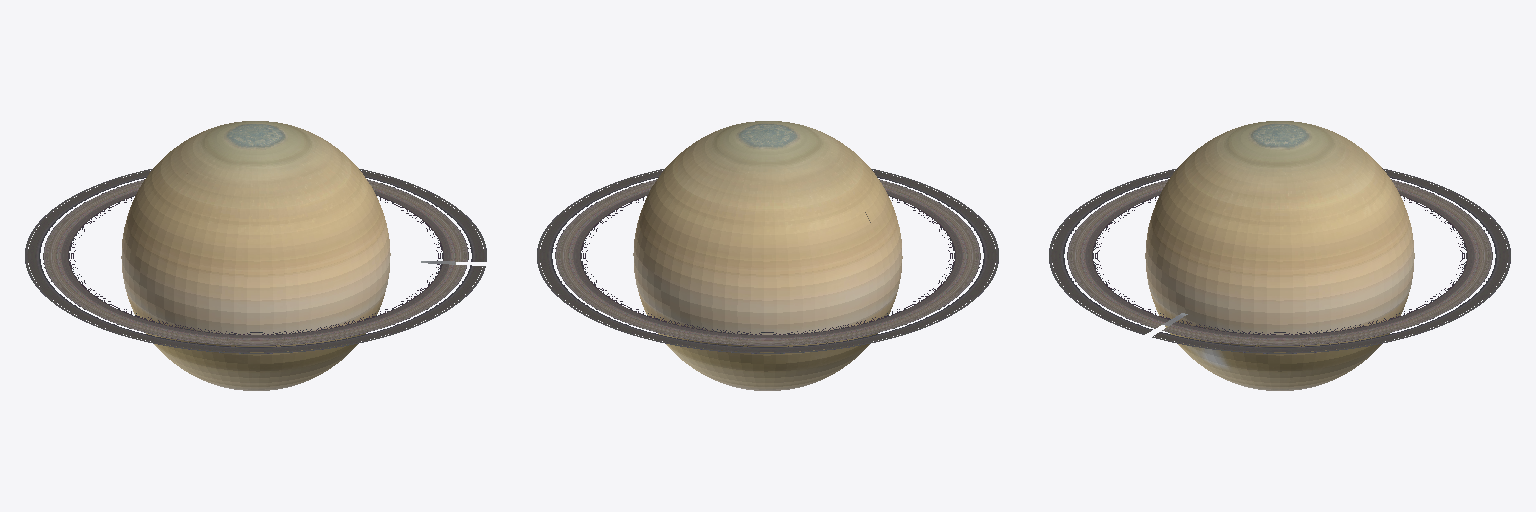
3 renders of one model, left to right at view 1: azimuth 30°, elevation 25°; view 2: azimuth 150°, elevation 25°; view 3: azimuth 270°, elevation 25°, orthographic.
Parts seen in each view (by area): view 1: Ring_Circle.001; view 2: Ring_Circle.001; view 3: Ring_Circle.001.
Part boxes in pixels (x1,y1,x2,y2): Ring_Circle.001: (25,121,486,390); Ring_Circle.001: (537,121,998,390); Ring_Circle.001: (1049,121,1510,390).
Size of the model in its own units: 3.45 by 2 by 3.45.
2 materials, 1 textured.